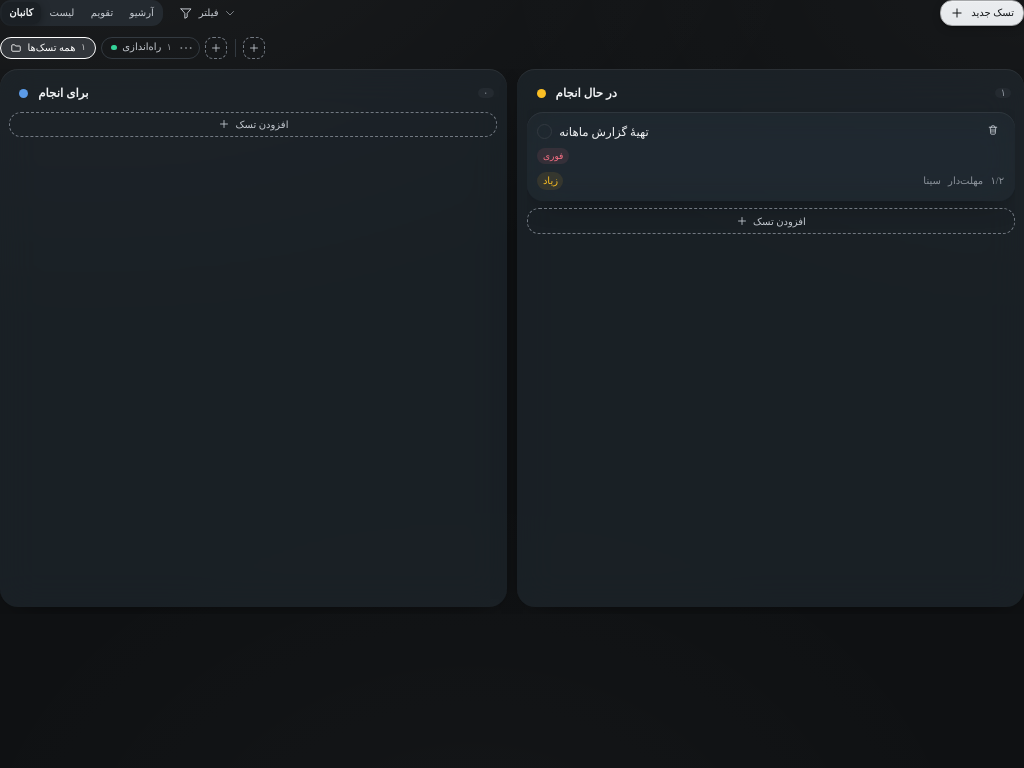
Test: «کپی» — one card per person (2026-09-19) › opens the board's own dialog FILLED from the card, with nobody on it — and the card's panel is gone
This screenshot has width=1024, height=768.
Step 1. Click the text "تهیهٔ گزارش ماهانه" → (604, 132), box [559, 124, 649, 138]
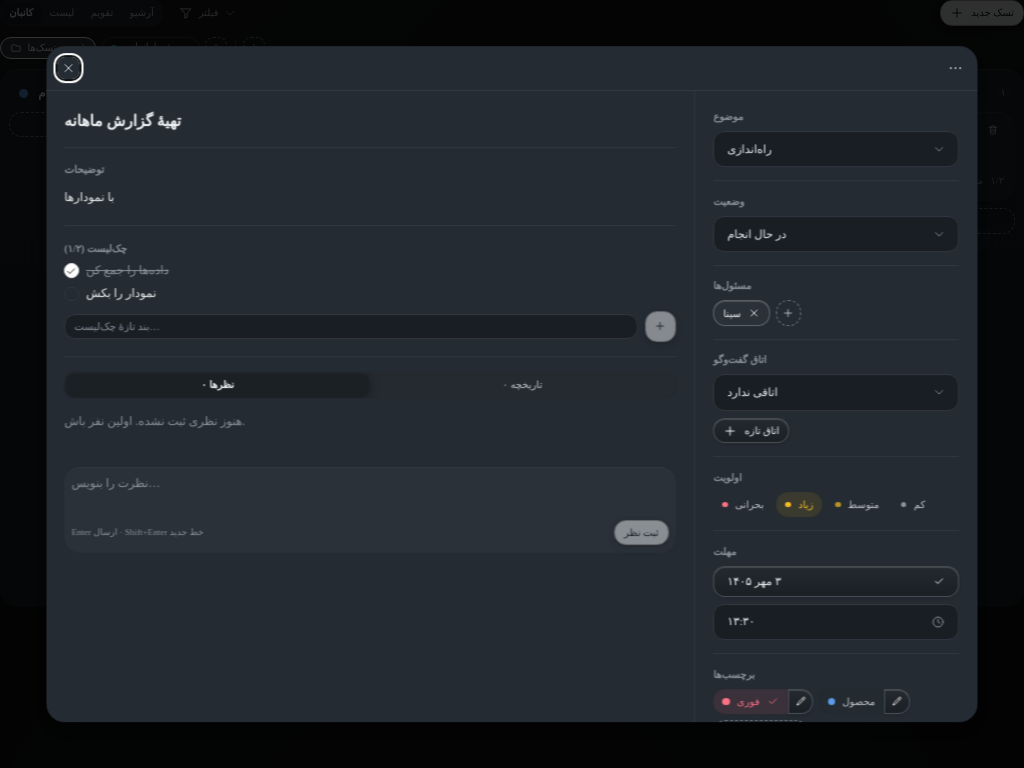
Step 2. Click the button named "بیشتر" → (956, 68), box [945, 57, 967, 79]
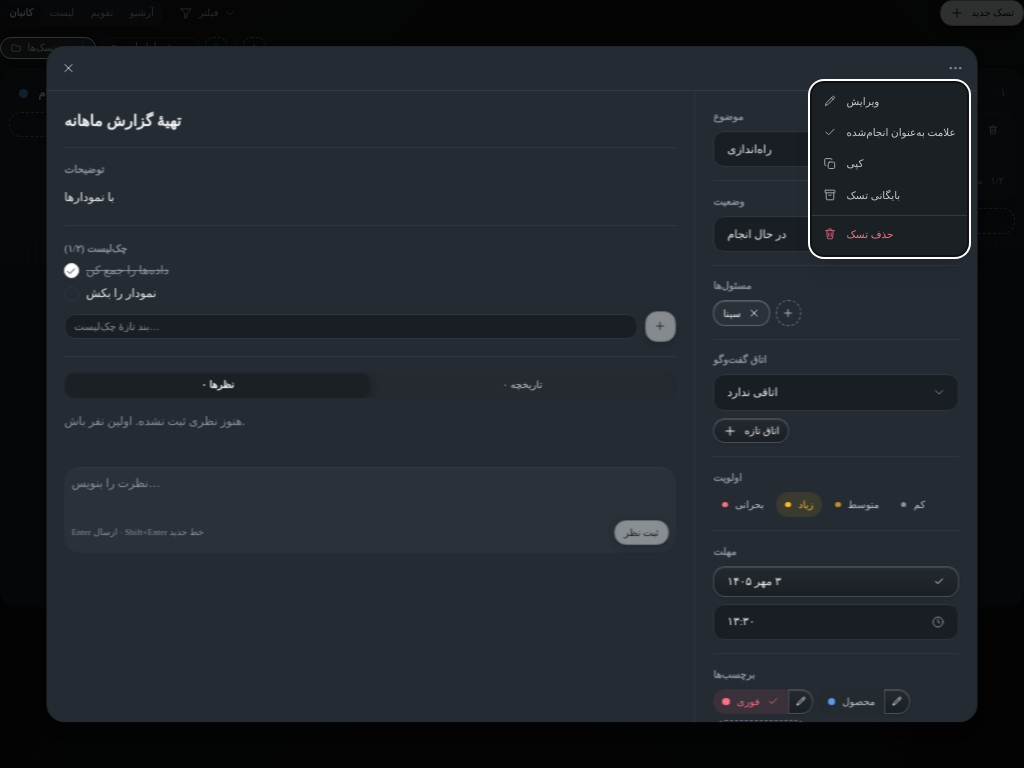
Step 3. Click the menu item "کپی" → (830, 164), box [823, 157, 863, 171]
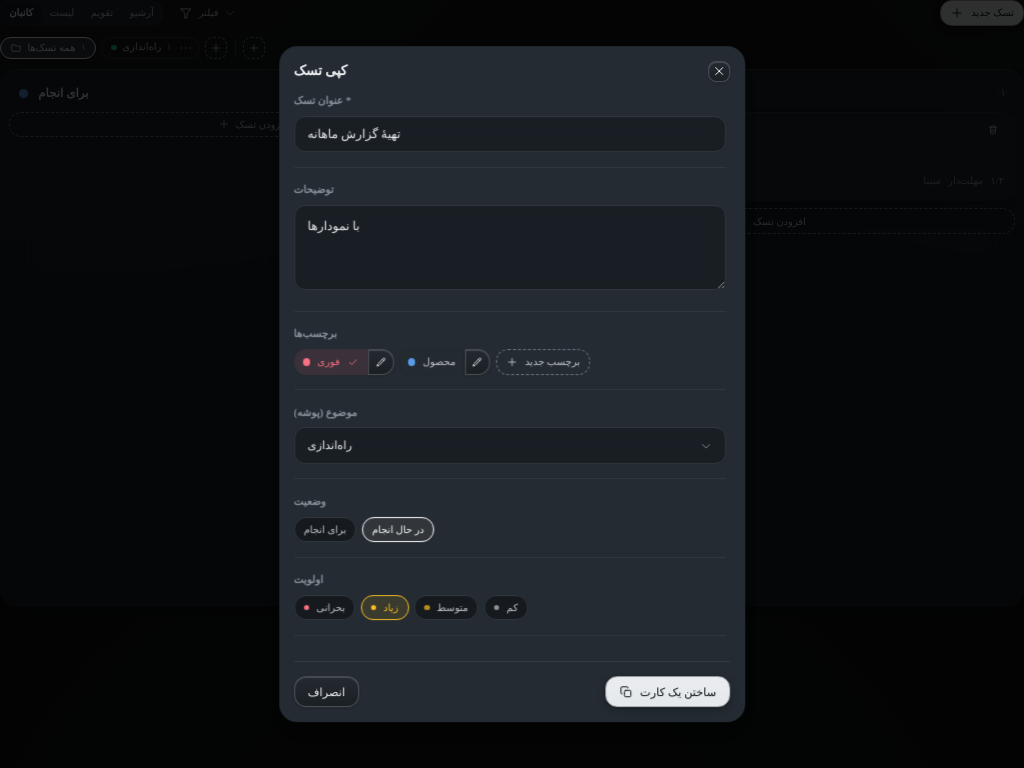
Expected: the field showing "تهیهٔ گزارش ماهانه" is shown, [294, 116, 727, 152]
Expected: the text box showing "با نمودارها" is shown, [294, 205, 727, 290]
Expected: the button "ساختن یک کارت" is shown, [605, 676, 730, 707]
